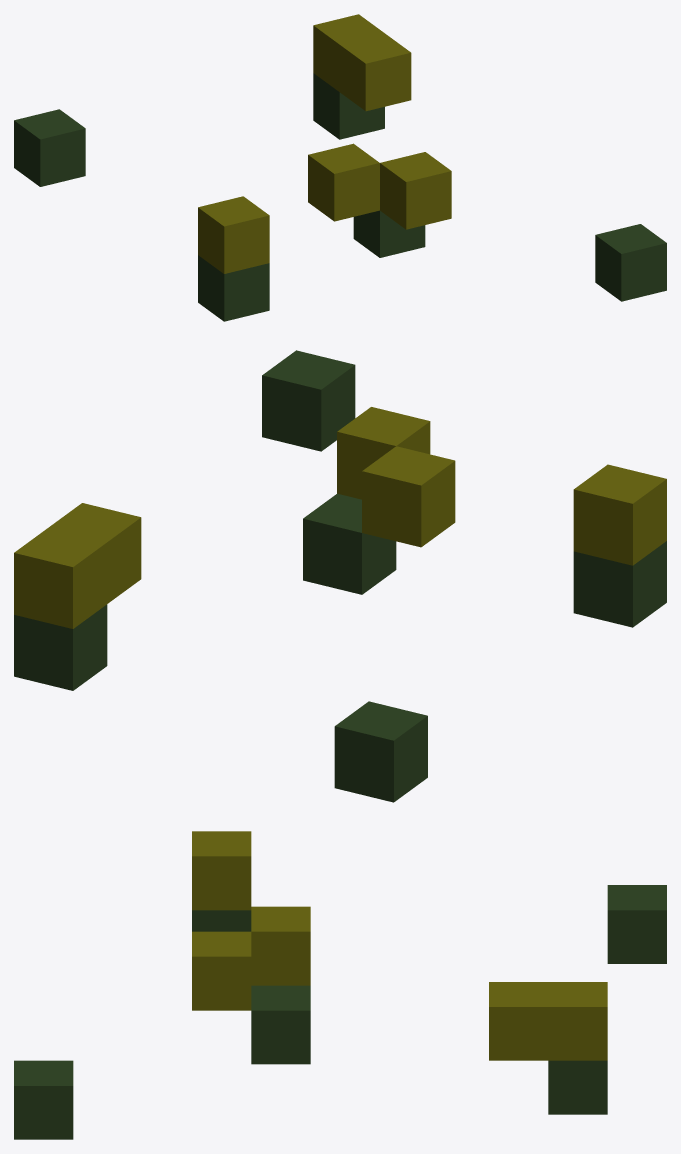
The model's file is yellow_flowers.fbx.
The picture shows the model from 3 angles, top to bottom: view 1: azimuth 30°, elevation 25°; view 2: azimuth 150°, elevation 25°; view 3: azimuth 270°, elevation 25°; orthographic projection. The views are drawn at different scales.
Visible parts, largest first — view 1: yellow_flowers; view 2: yellow_flowers; view 3: yellow_flowers.
Boxes of the visible parts, bbox=[...] form: yellow_flowers: bbox=[14, 14, 666, 321]; yellow_flowers: bbox=[14, 350, 666, 802]; yellow_flowers: bbox=[14, 831, 666, 1139].
Size of the model in its own units: 80 by 20 by 110.
